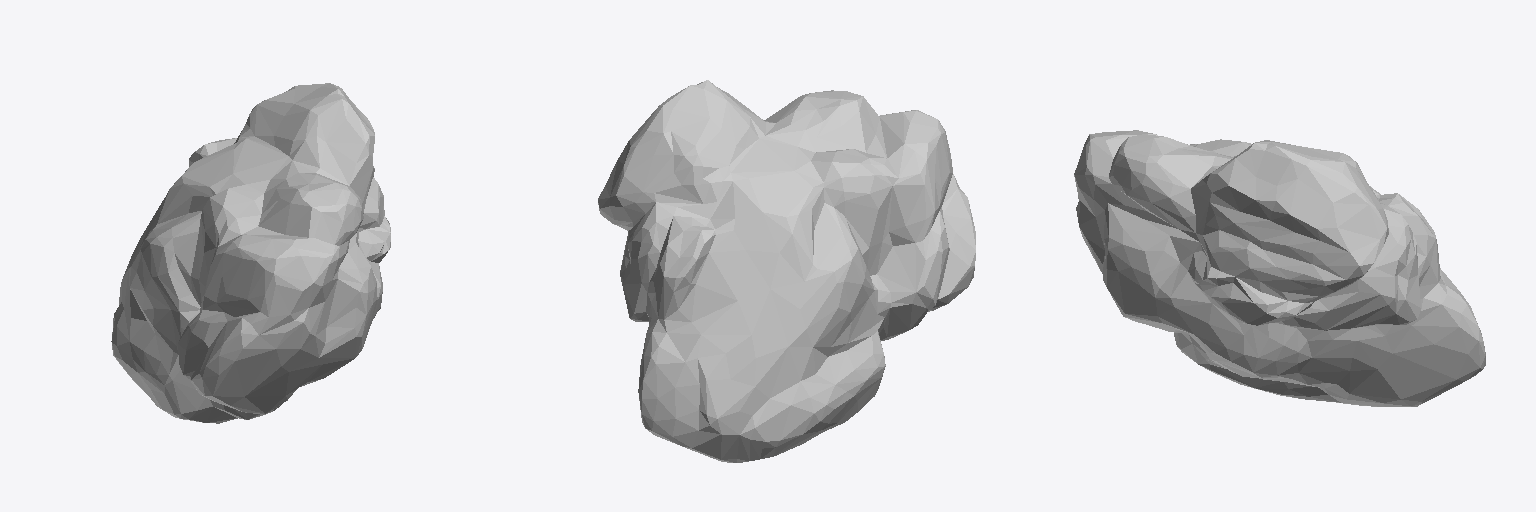
Rendered from Explo.obj.
3 views of the same model, side by side, from view 1: azimuth 30°, elevation 25°; view 2: azimuth 150°, elevation 25°; view 3: azimuth 270°, elevation 25° (orthographic).
Visible parts, largest first — view 1: Rock; view 2: Rock; view 3: Rock.
Part boxes in pixels (x1,y1,x2,y2): Rock: (111, 83, 390, 423); Rock: (598, 80, 975, 462); Rock: (1074, 130, 1485, 406).
Size of the model in its own units: 8 by 8.74 by 10.93.